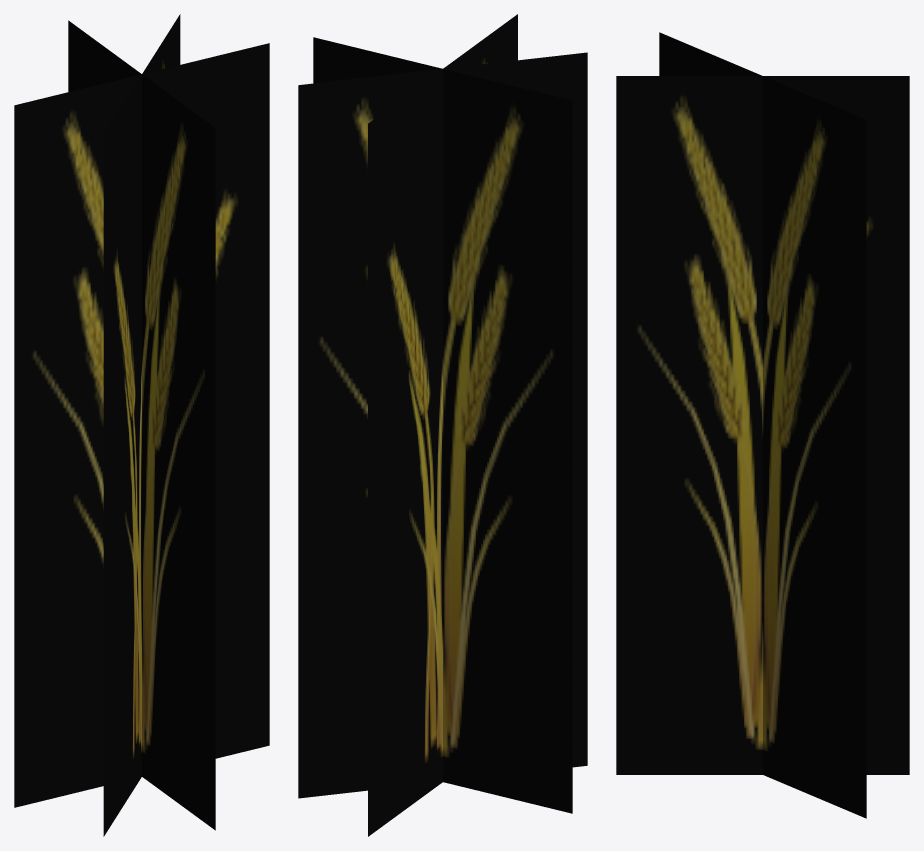
The model's file is Wheat.glb.
3 views of the same model, side by side, from view 1: azimuth 30°, elevation 25°; view 2: azimuth 150°, elevation 25°; view 3: azimuth 270°, elevation 25° (orthographic). The views are drawn at different scales.
Visible parts, largest first — view 1: Plane; view 2: Plane; view 3: Plane.
Boxes of the visible parts, <box> form: Plane: <box>14,14,269,836</box>; Plane: <box>298,14,587,836</box>; Plane: <box>616,32,909,818</box>.
Size of the model in its own units: 2 by 5.25 by 2.
Materials: 1 (1 with a texture image).
